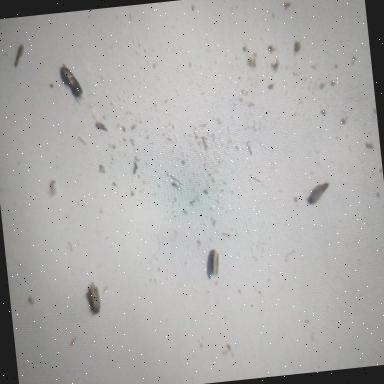pbw: (59, 62, 85, 106), (306, 181, 332, 204), (85, 280, 102, 314), (210, 250, 221, 276)
